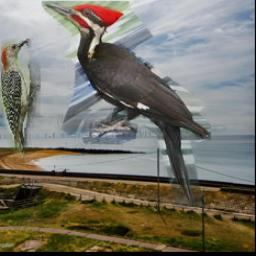Woodpecker: (42, 2, 211, 208), (1, 40, 41, 162)
